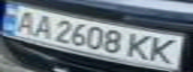0: (84, 24, 106, 52)
2: (51, 17, 75, 45)
6: (66, 20, 90, 47)
8: (103, 27, 127, 55)
A: (6, 7, 42, 35), (27, 12, 57, 39)
K: (145, 35, 187, 66), (124, 32, 160, 61)
